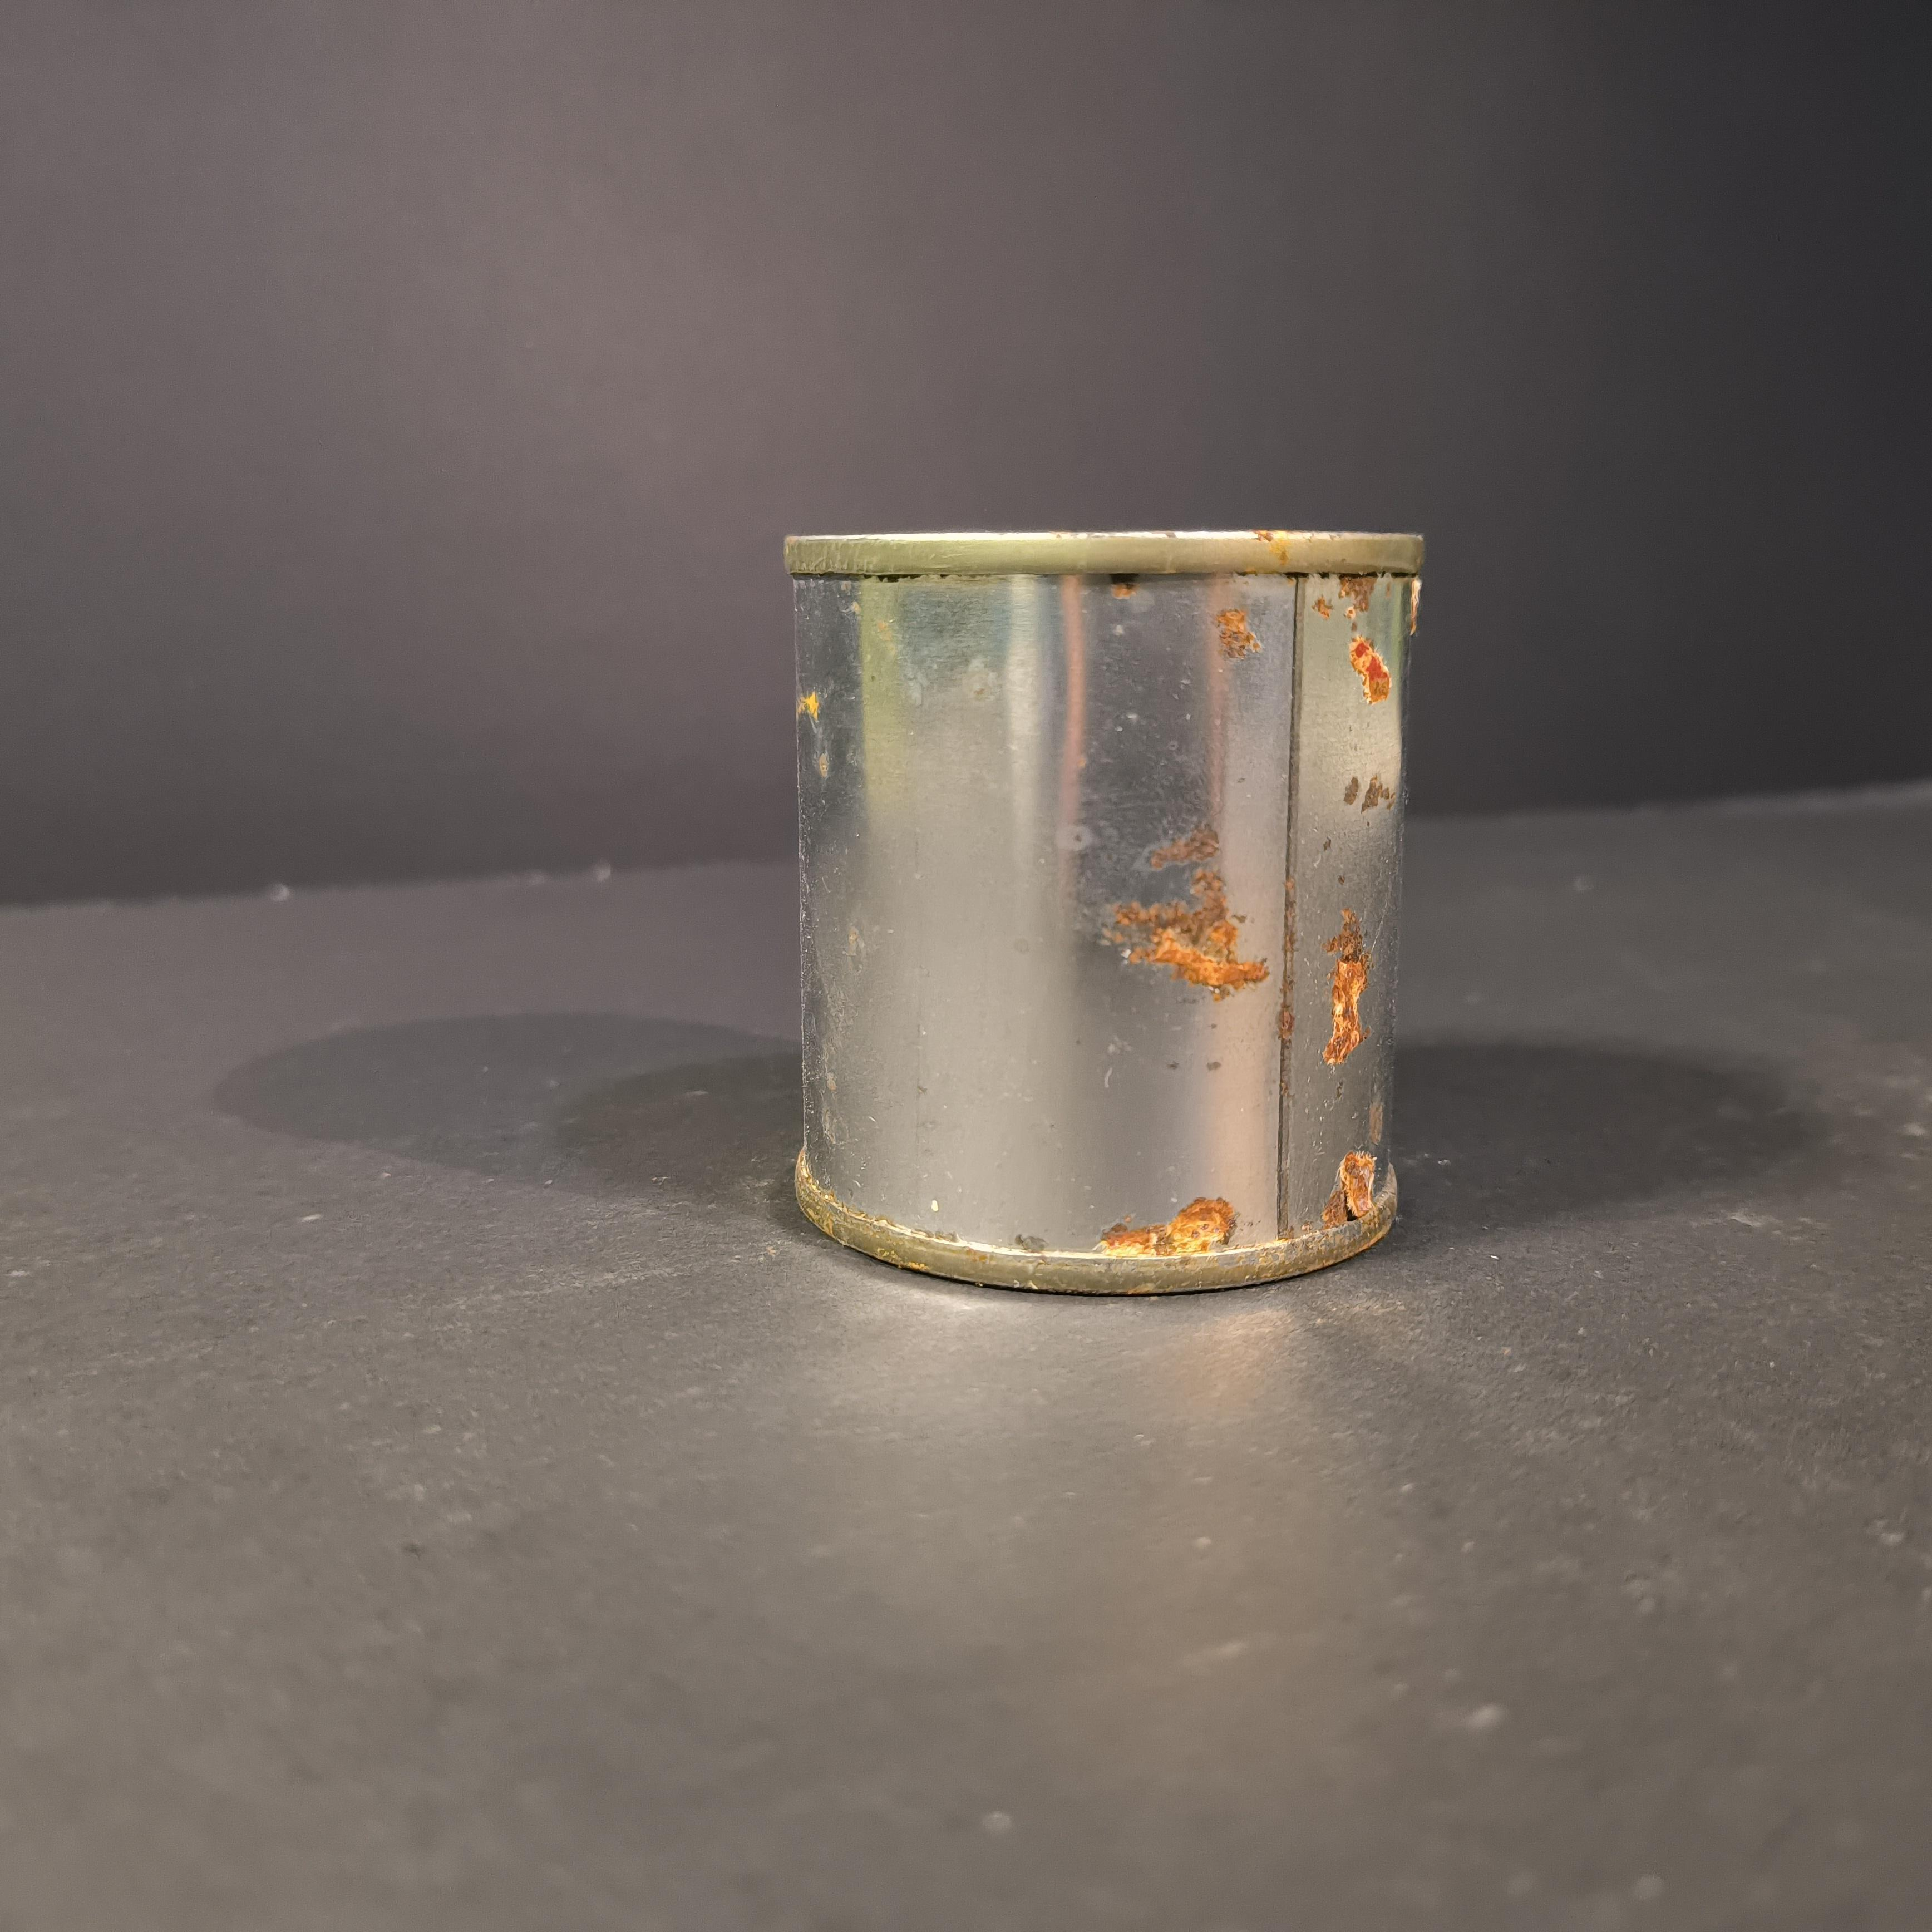Rusted: (768, 495, 1435, 1318)
